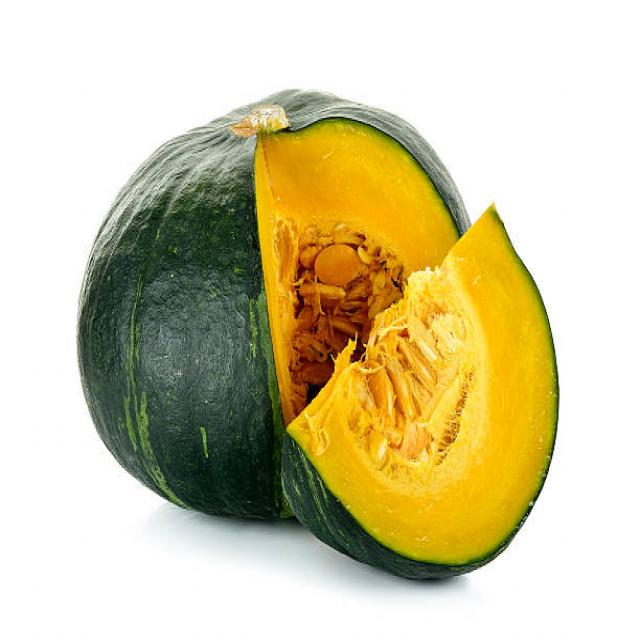Pumpkin: (284, 203, 560, 593), (73, 83, 289, 526)
